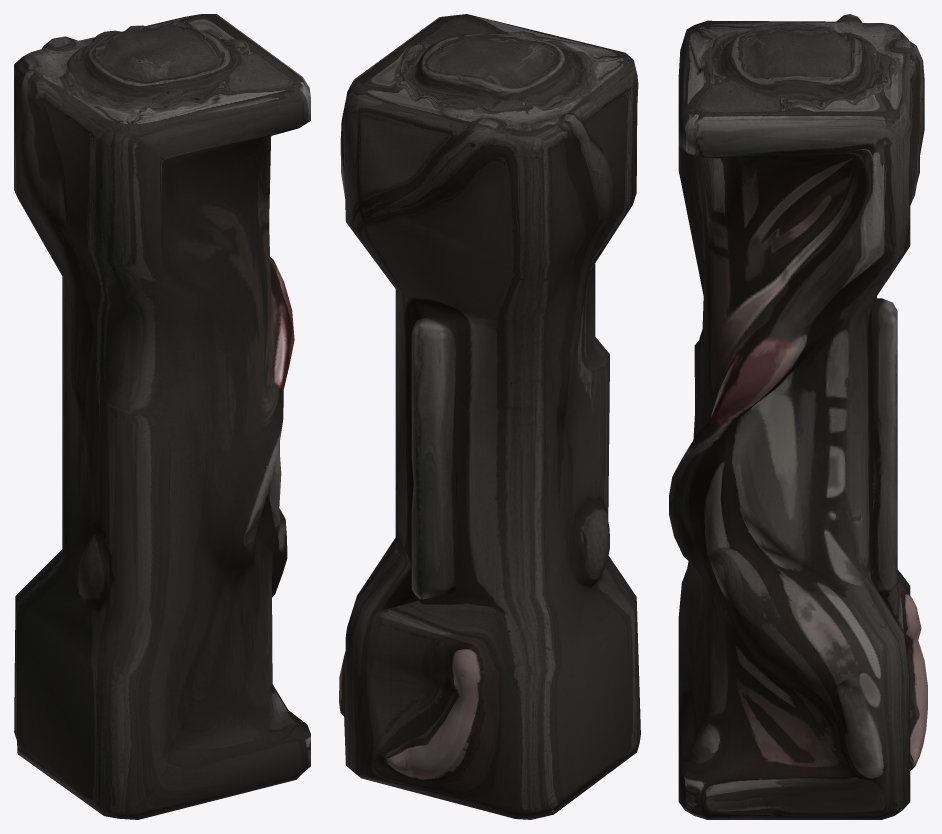
File: tripo_convert_f9e8ef2d-a74a-4bd1-a871-8b8bafd8d9c7.fbx
The picture shows the model from 3 angles, left to right: view 1: azimuth 30°, elevation 25°; view 2: azimuth 150°, elevation 25°; view 3: azimuth 270°, elevation 25°; orthographic projection. The views are drawn at different scales.
Parts seen in each view (by area): view 1: tripo_node_f9e8ef2d; view 2: tripo_node_f9e8ef2d; view 3: tripo_node_f9e8ef2d.
Boxes of the visible parts, x1,y1,x2,y2 form: tripo_node_f9e8ef2d: [14, 14, 310, 819]; tripo_node_f9e8ef2d: [339, 14, 640, 819]; tripo_node_f9e8ef2d: [669, 14, 927, 819].
Bounding box in the file's own units: 0.3574 × 0.998 × 0.3184.
1 material, 1 textured.
